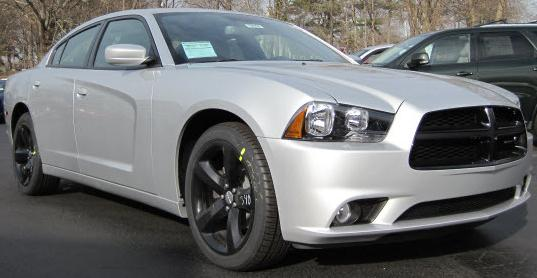front_view: (294, 80, 533, 245)
headlight: (291, 88, 409, 164)
side_glass: (37, 18, 179, 81)
